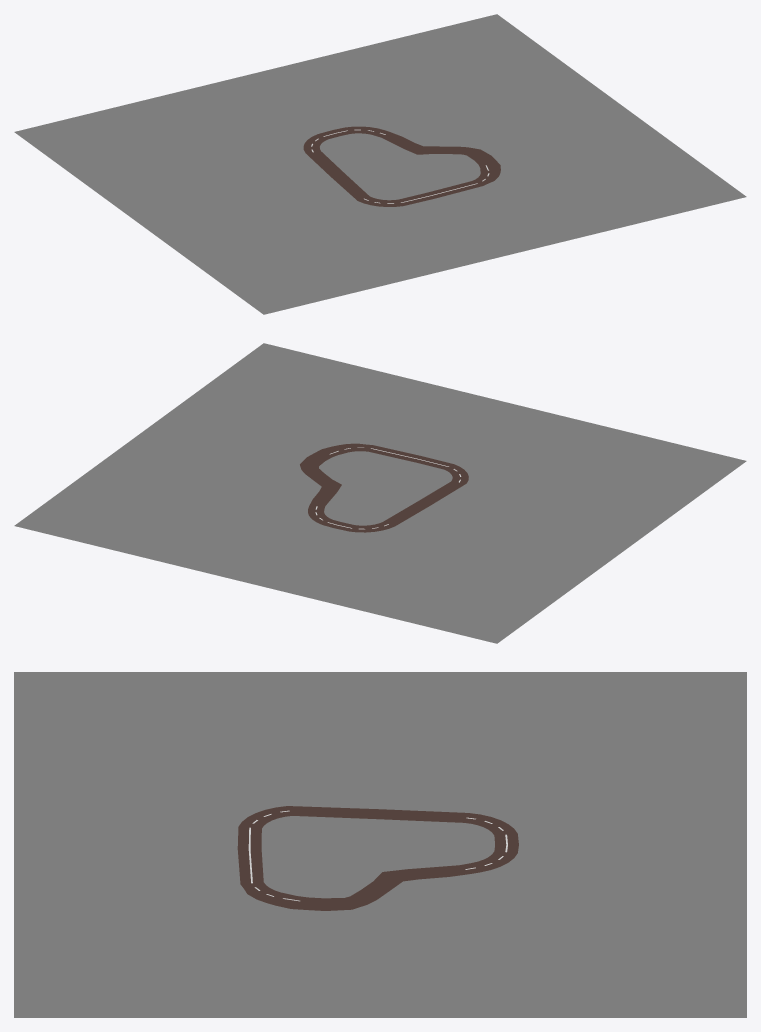
Rendered from TRACK_03.fbx.
The picture shows the model from 3 angles, top to bottom: view 1: azimuth 30°, elevation 25°; view 2: azimuth 150°, elevation 25°; view 3: azimuth 270°, elevation 25°; orthographic projection. The views are drawn at different scales.
Parts seen in each view (by area): view 1: Track03; view 2: Track03; view 3: Track03.
Boxes of the visible parts, <box> form: Track03: <box>14,14,746,314</box>; Track03: <box>14,343,746,643</box>; Track03: <box>14,672,746,1017</box>.
Bounding box in the file's own units: 78878 × 0.0115 × 70637.
